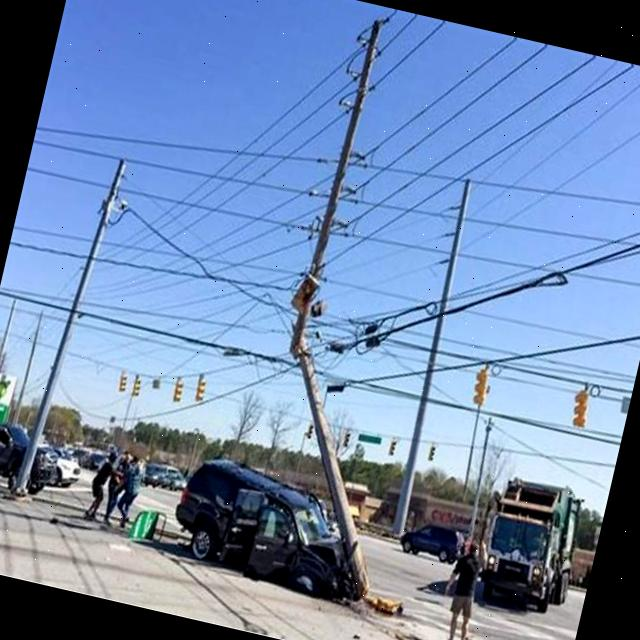Broken Pole: (285, 9, 390, 601)
